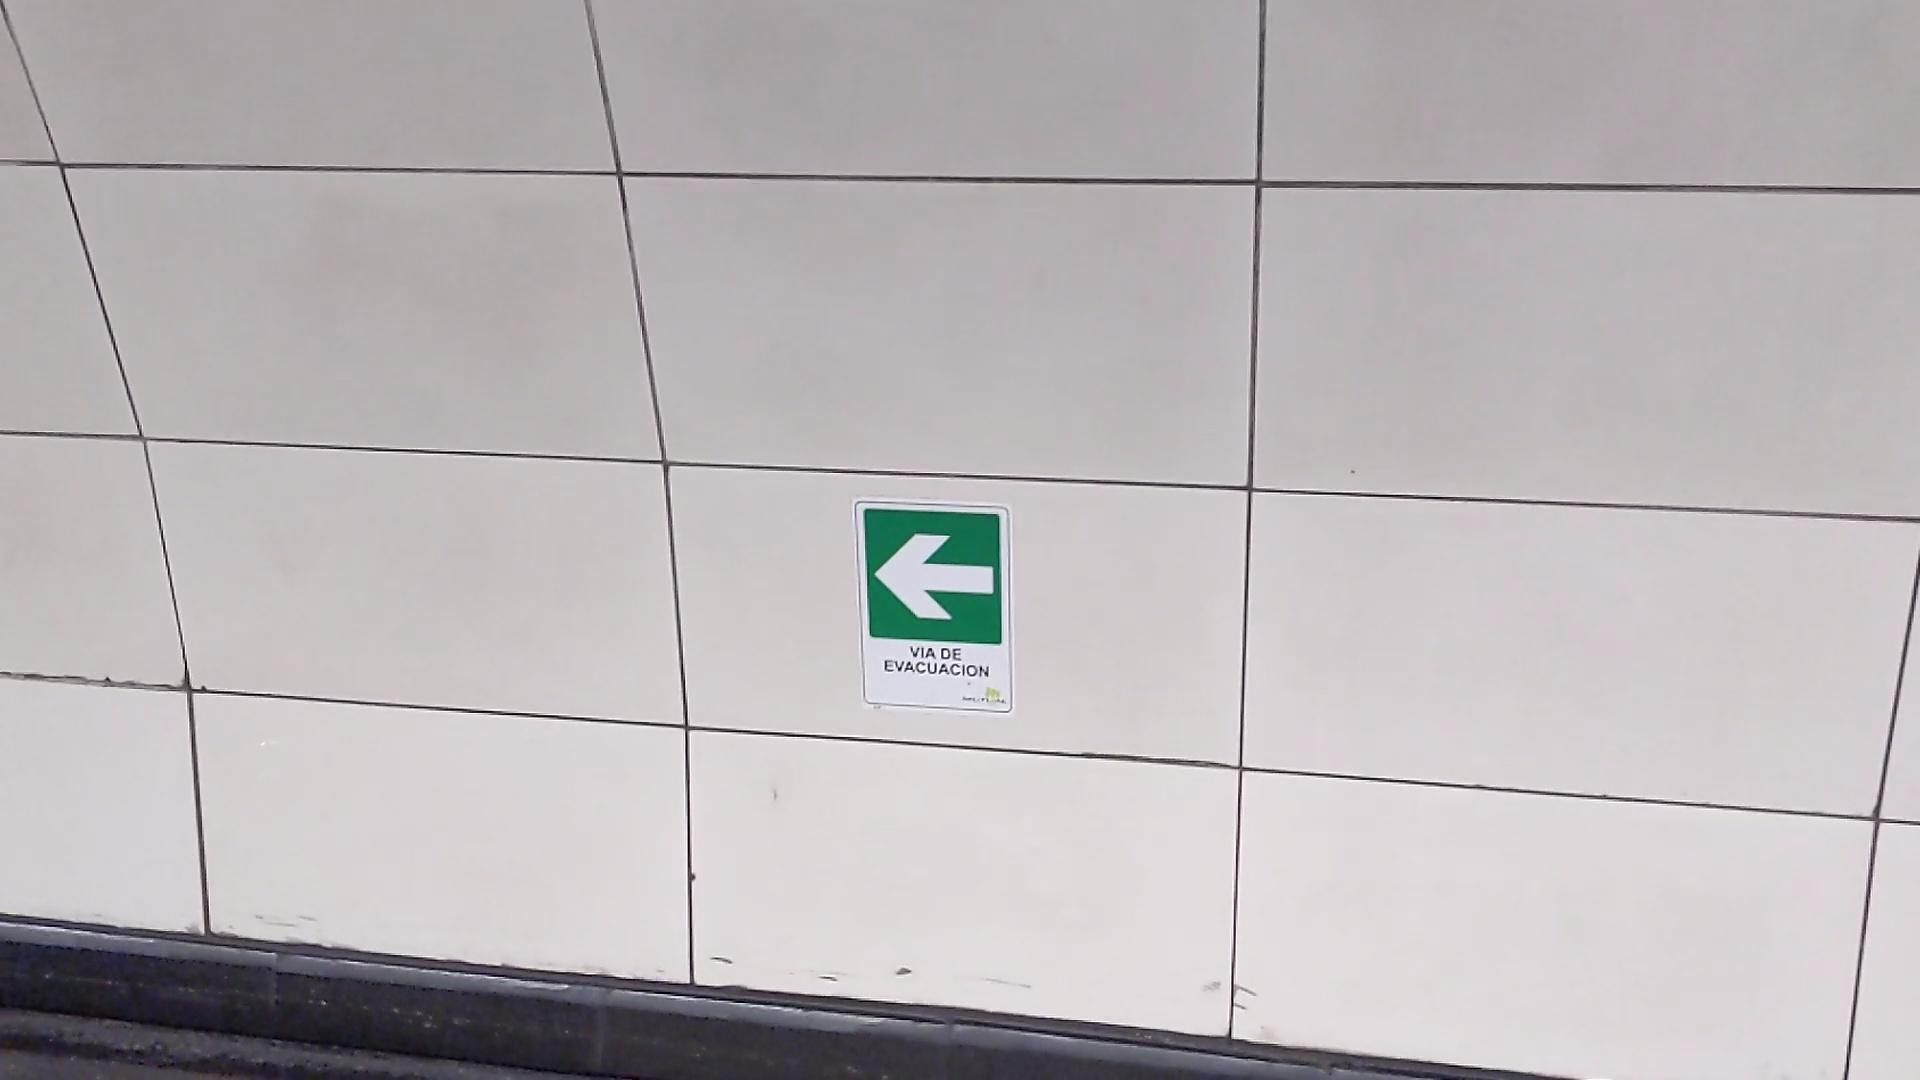emergency left arrow: (870, 526, 998, 630)
